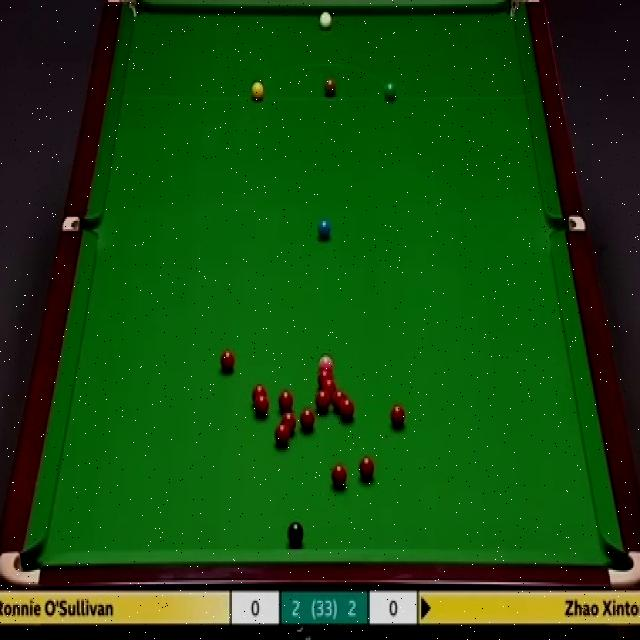black-ball: (286, 518, 304, 544)
blue-ball: (317, 220, 332, 237)
brown-ball: (325, 78, 336, 96)
green-ball: (382, 79, 398, 102)
pink-ball: (318, 354, 335, 370)
red-ball: (389, 400, 406, 428), (218, 348, 234, 373), (274, 423, 291, 446), (301, 405, 316, 430), (315, 389, 330, 413), (338, 397, 354, 419), (331, 459, 345, 484), (358, 455, 373, 477), (254, 396, 270, 416), (278, 389, 292, 411), (320, 378, 336, 397), (282, 414, 297, 434), (253, 384, 267, 405), (332, 386, 346, 406)
white-ball: (321, 8, 334, 26)
yellow-ball: (251, 80, 264, 102)
